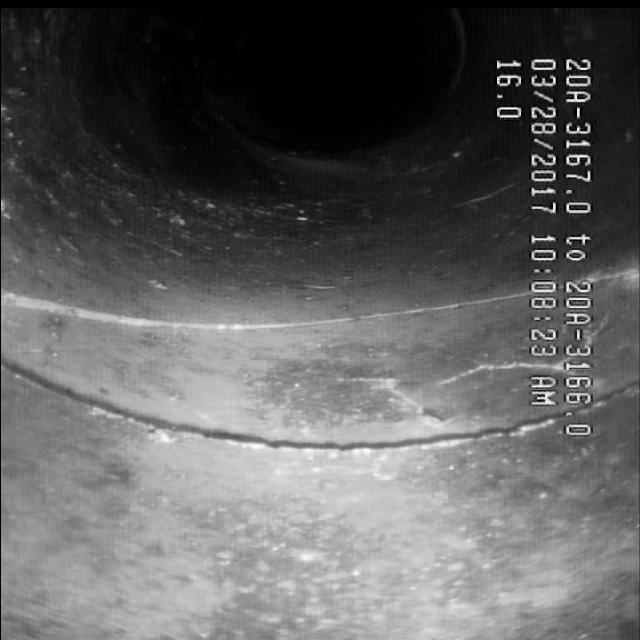Crack: (353, 346, 607, 392)
